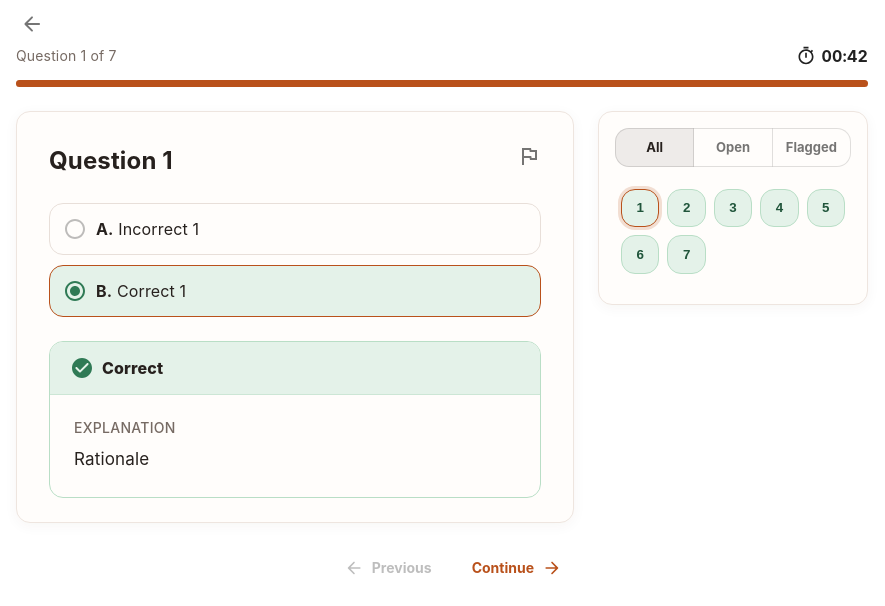
paused Fast Feedback stopwatch › stays frozen while a fully answered quiz remains navigable
Expected: the text "00:42" is shown, left=822, top=44, right=868, bottom=68
Click the button "Continue" at (515, 568), box left=456, top=546, right=574, bottom=589
Wait 5000 ms
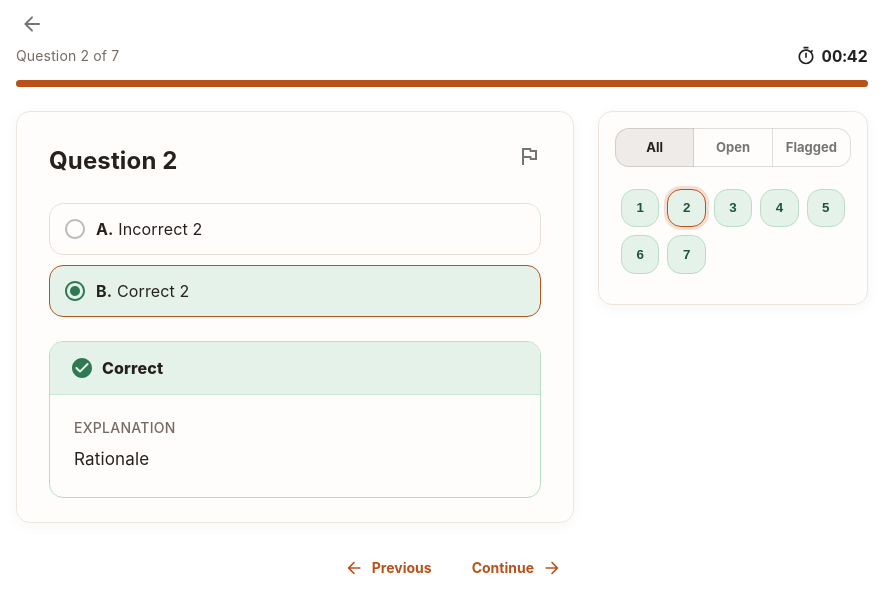
Expected: the text "00:42" is shown, left=822, top=44, right=868, bottom=68
Result: the text "Question 2 of 7" is shown at left=16, top=46, right=119, bottom=66
